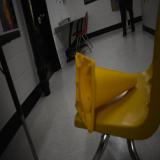cone: (74, 52, 137, 134)
